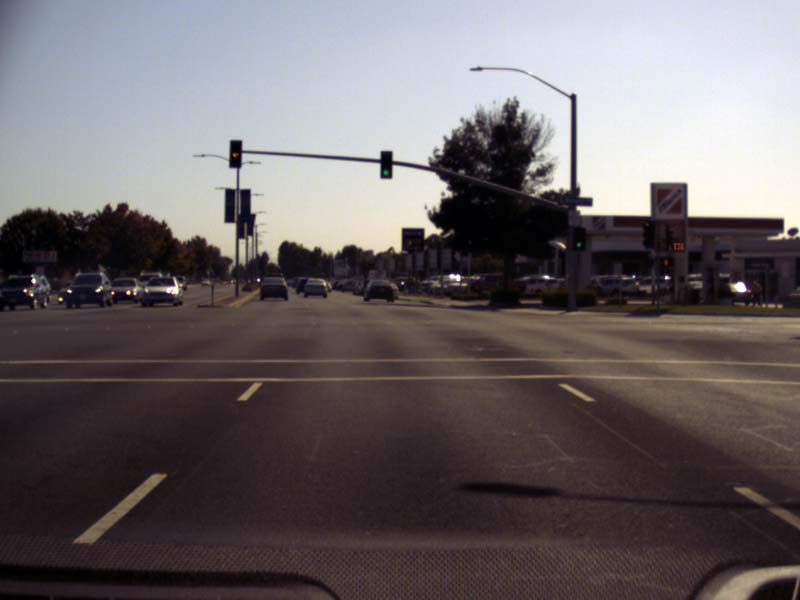Green: (571, 226, 585, 250), (380, 151, 391, 178)
Red: (229, 140, 241, 167)
